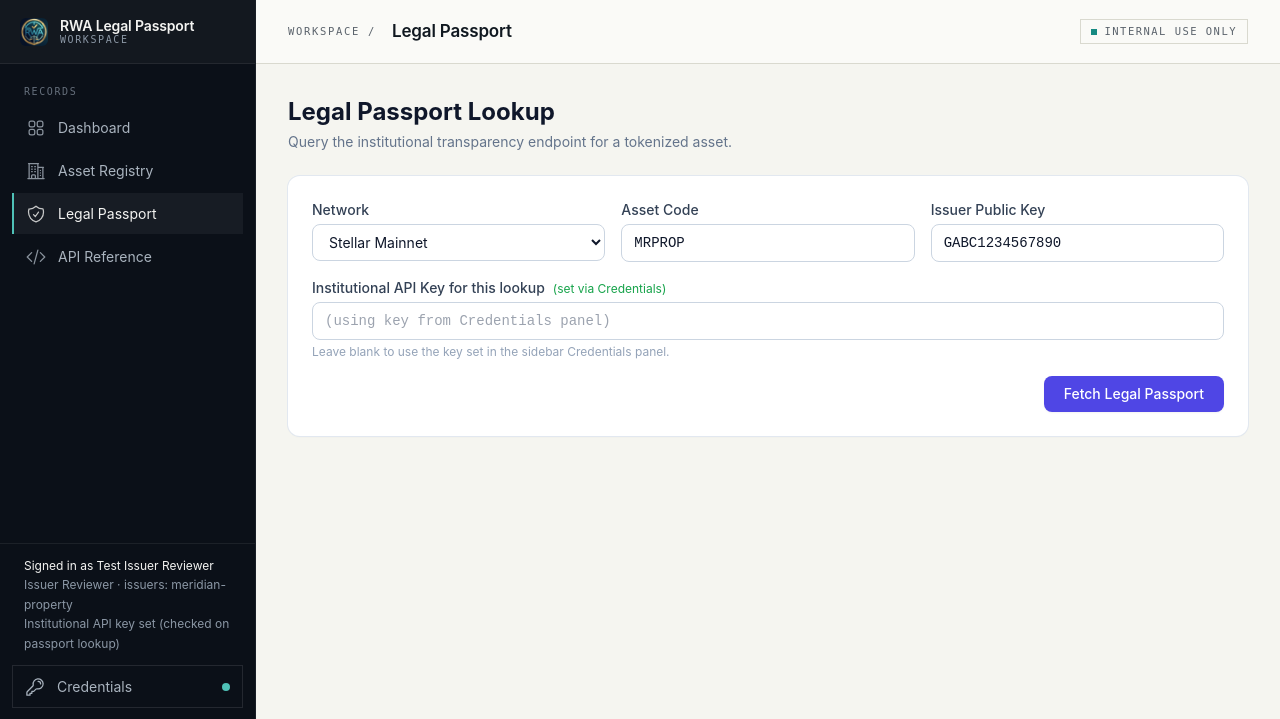
Scenario: Passport History › explains a 409 passport: which version changed, why approvals lapsed, what needs reapproval
Click the button "Fetch Legal Passport": [1134, 394] box [1044,376,1224,412]
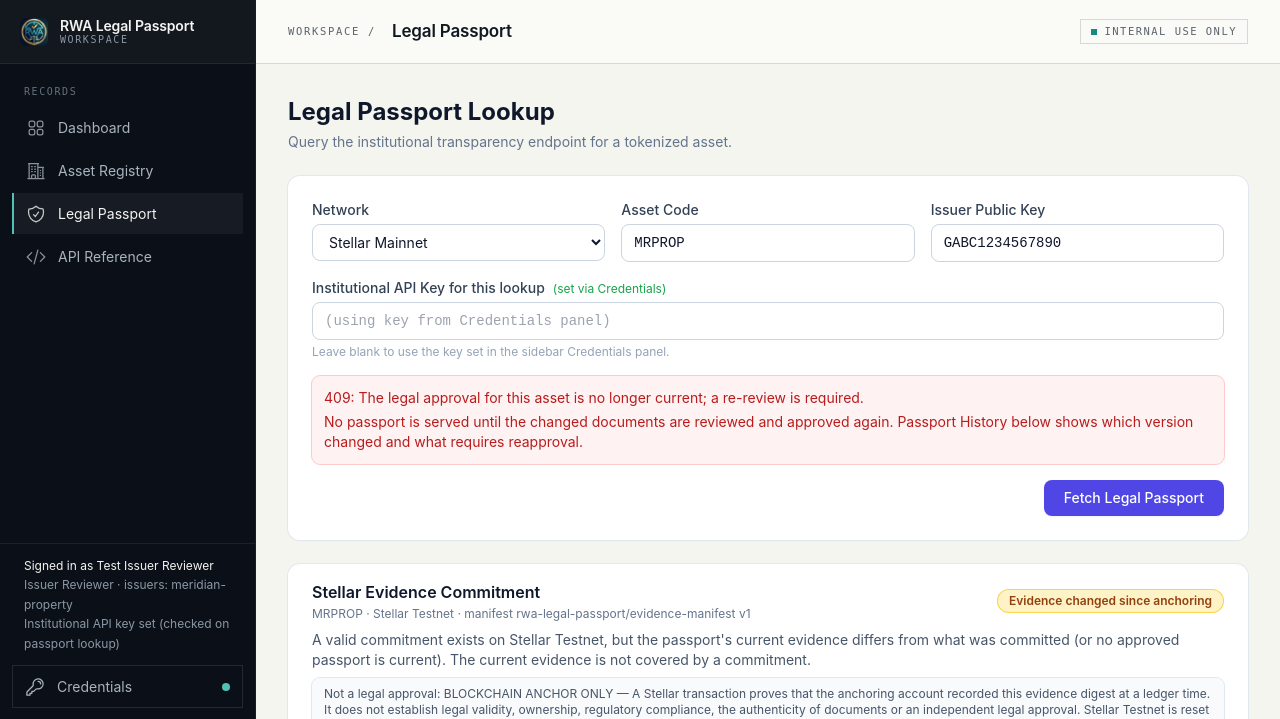
Now the text "409: The legal approval for this asset is no longer current" is shown, box [324,389,864,406]
Now the text with test id "passport-not-current-note" shows "Passport History below shows which version changed and what requires reapproval.", box [324,413,1193,450]
Now the text with test id "anchor-result-badge" shows "Evidence changed", box [1009,593,1212,608]
